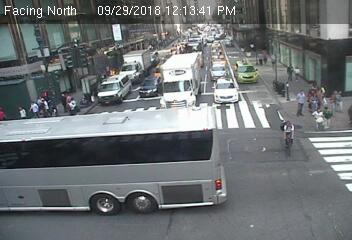car: (1, 111, 228, 215), (161, 53, 201, 113), (96, 72, 131, 104), (121, 49, 151, 78), (213, 75, 240, 104), (234, 57, 260, 85), (138, 75, 160, 99), (207, 64, 231, 80), (208, 52, 230, 65), (184, 38, 202, 53), (209, 42, 225, 54)
